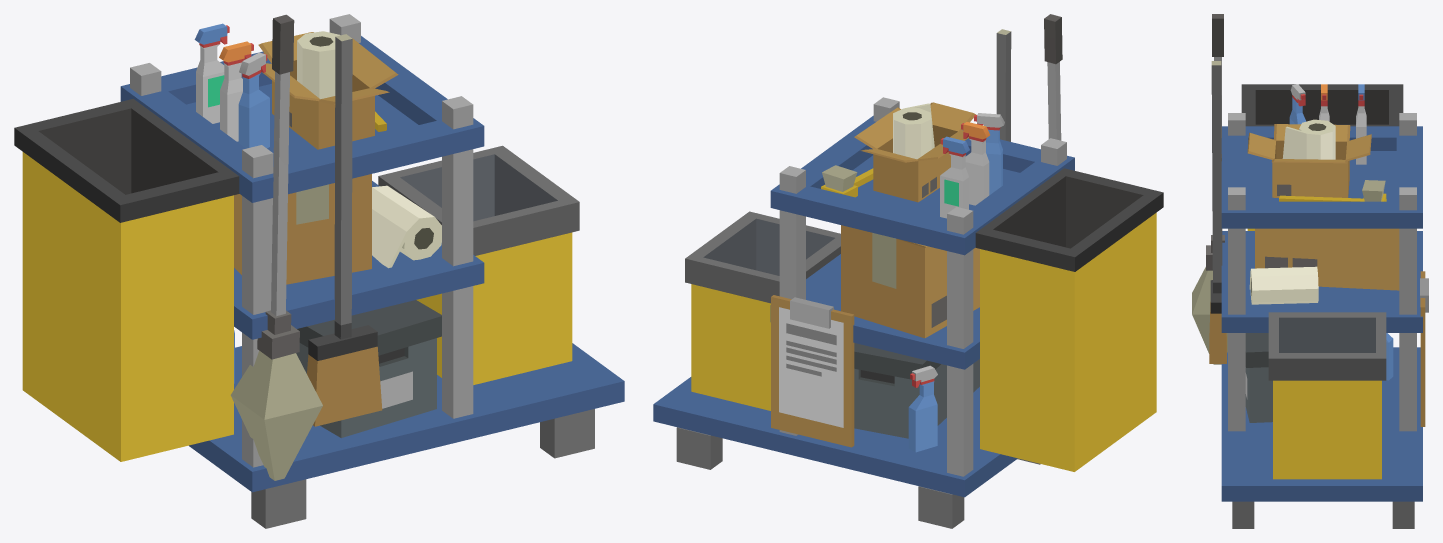
File: JanitorCart.glb
The picture shows the model from 3 angles, left to right: view 1: azimuth 30°, elevation 25°; view 2: azimuth 150°, elevation 25°; view 3: azimuth 270°, elevation 25°; orthographic projection. The views are drawn at different scales.
Visible parts, largest first — view 1: SI_Prop_JanitorCart_01; view 2: SI_Prop_JanitorCart_01; view 3: SI_Prop_JanitorCart_01.
Part boxes in pixels (x1,y1,x2,y2): SI_Prop_JanitorCart_01: [14, 14, 624, 528]; SI_Prop_JanitorCart_01: [653, 14, 1163, 528]; SI_Prop_JanitorCart_01: [1192, 14, 1428, 528].
Size of the model in its own units: 0.0254 by 0.0255 by 0.0139.
Materials: 2 (2 with a texture image).
